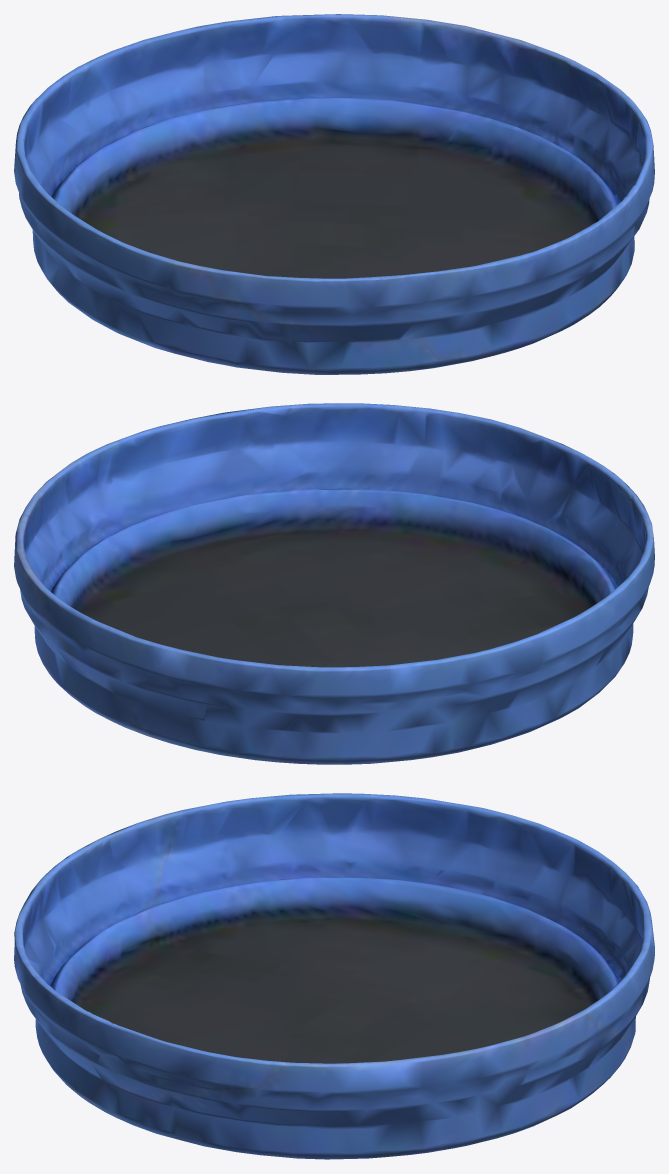
Rendered from Sea_to_Summit_Xl_Bowl-high.glb.
3 renders of one model, top to bottom at view 1: azimuth 30°, elevation 25°; view 2: azimuth 150°, elevation 25°; view 3: azimuth 270°, elevation 25°, orthographic.
Parts seen in each view (by area): view 1: Sea_to_Summit_Xl_Bowl; view 2: Sea_to_Summit_Xl_Bowl; view 3: Sea_to_Summit_Xl_Bowl.
Boxes of the visible parts, x1,y1,x2,y2 form: Sea_to_Summit_Xl_Bowl: (14,14,654,374); Sea_to_Summit_Xl_Bowl: (14,403,654,764); Sea_to_Summit_Xl_Bowl: (14,793,654,1159).
Bounding box in the file's own units: 0.1802 × 0.0355 × 0.1803.
1 material, 1 textured.
